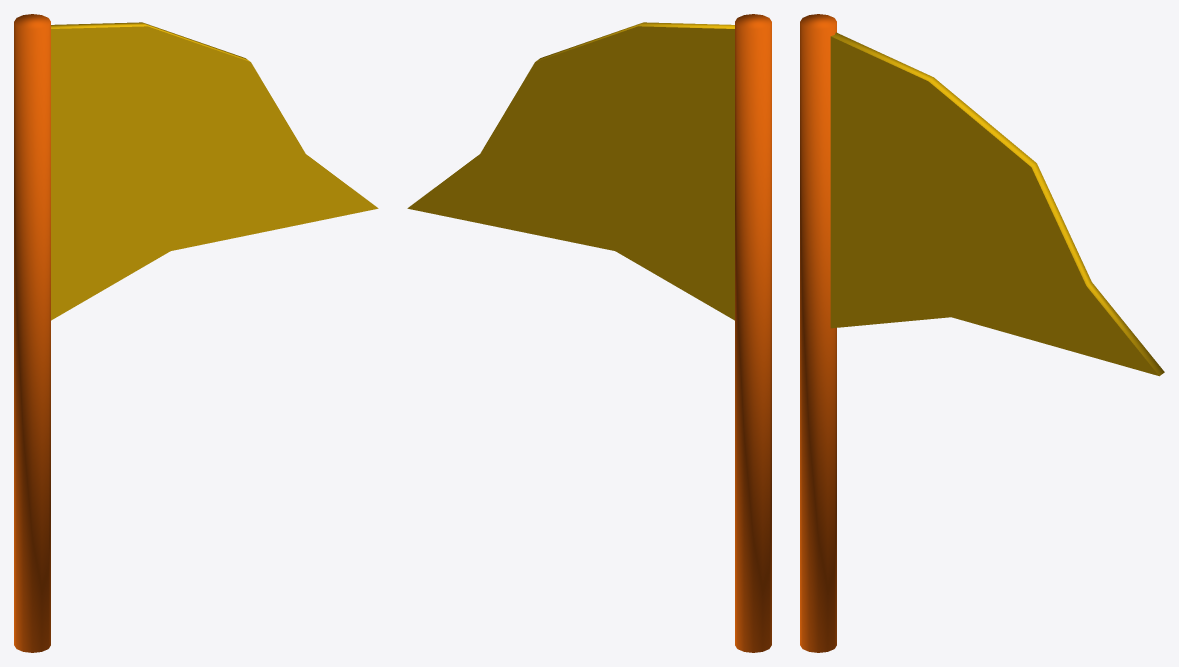
File: flagYellow.dae
3 renders of one model, left to right at view 1: azimuth 30°, elevation 25°; view 2: azimuth 150°, elevation 25°; view 3: azimuth 330°, elevation 25°, orthographic.
Visible parts, largest first — view 1: GodotFlagRed; view 2: GodotFlagRed; view 3: GodotFlagRed.
Part boxes in pixels (<box>): GodotFlagRed: <box>14,14,378,652</box>; GodotFlagRed: <box>407,14,771,652</box>; GodotFlagRed: <box>800,14,1164,652</box>.
Size of the model in its own units: 3.61 by 0.3217 by 5.97.
